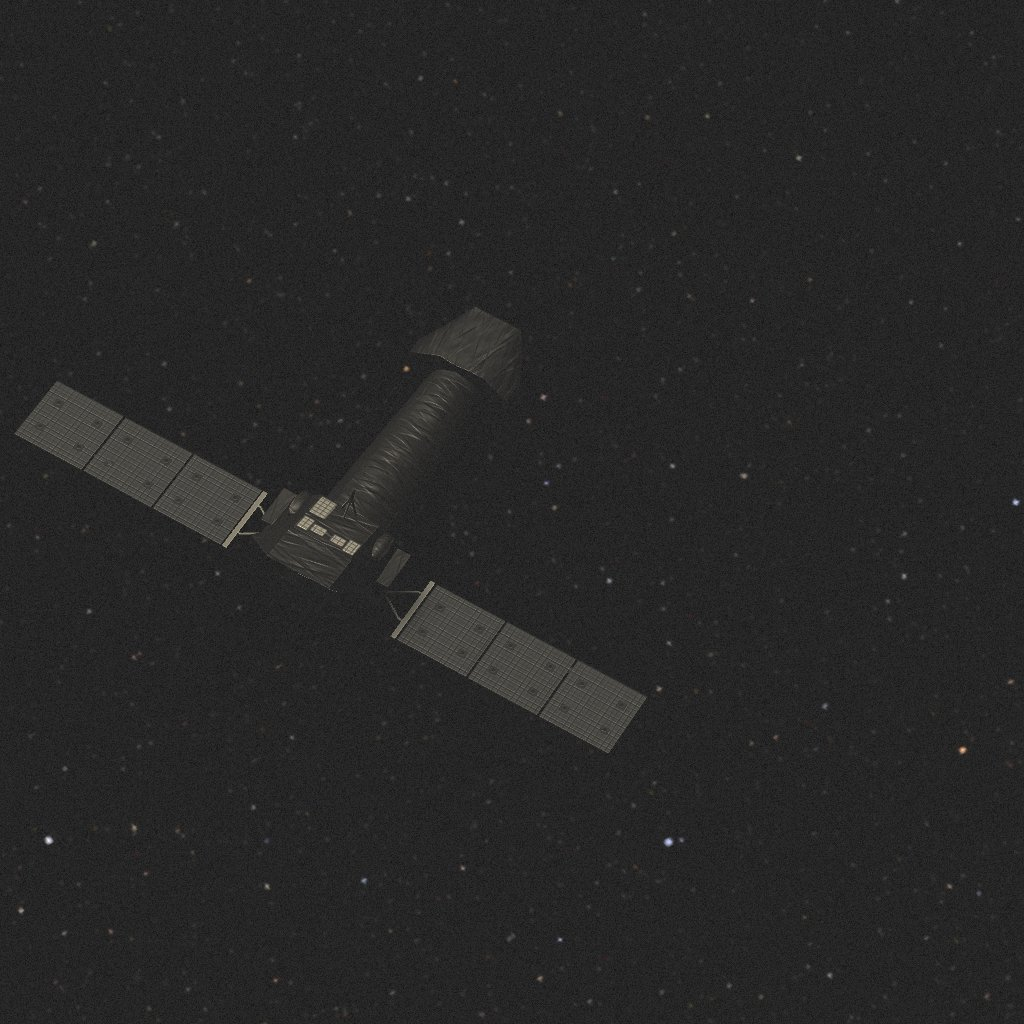xmm_newton: (14, 307, 647, 754)
